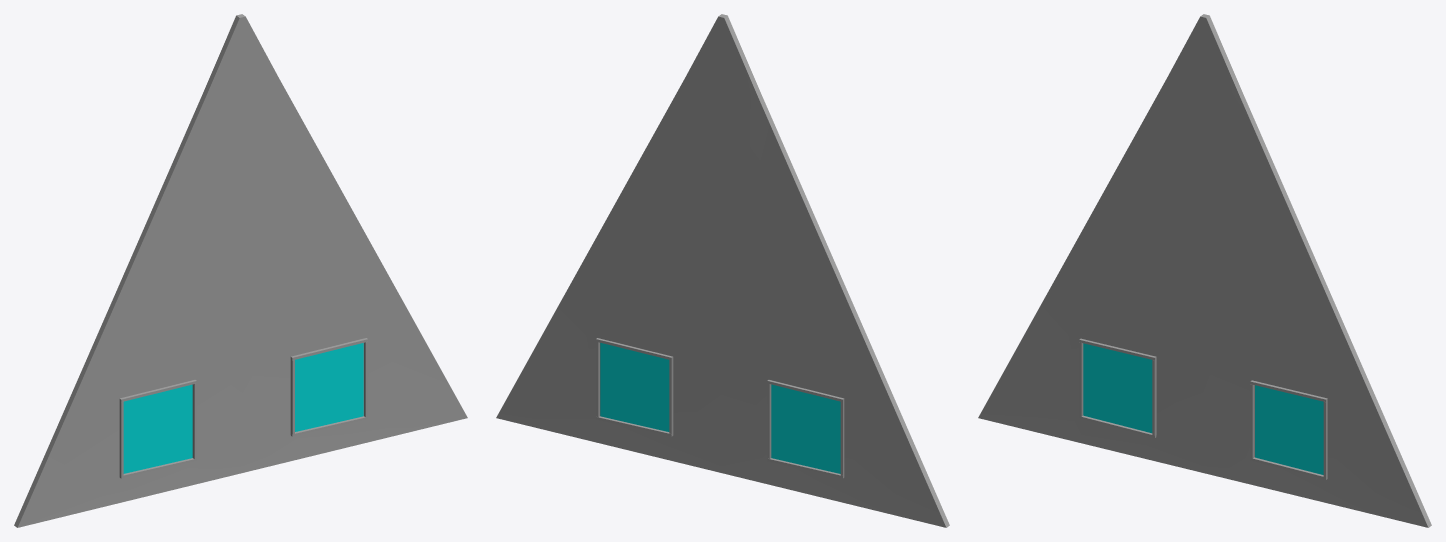
The model's file is SM_WallTopWindow.fbx.
3 views of the same model, side by side, from view 1: azimuth 30°, elevation 25°; view 2: azimuth 150°, elevation 25°; view 3: azimuth 330°, elevation 25° (orthographic).
Visible parts, largest first — view 1: SM_WallTopWindow; view 2: SM_WallTopWindow; view 3: SM_WallTopWindow.
Boxes of the visible parts, <box> form: SM_WallTopWindow: <box>14,14,467,527</box>; SM_WallTopWindow: <box>496,14,949,527</box>; SM_WallTopWindow: <box>978,14,1431,527</box>.
Bounding box in the file's own units: 1500 × 1450 × 34.72.
